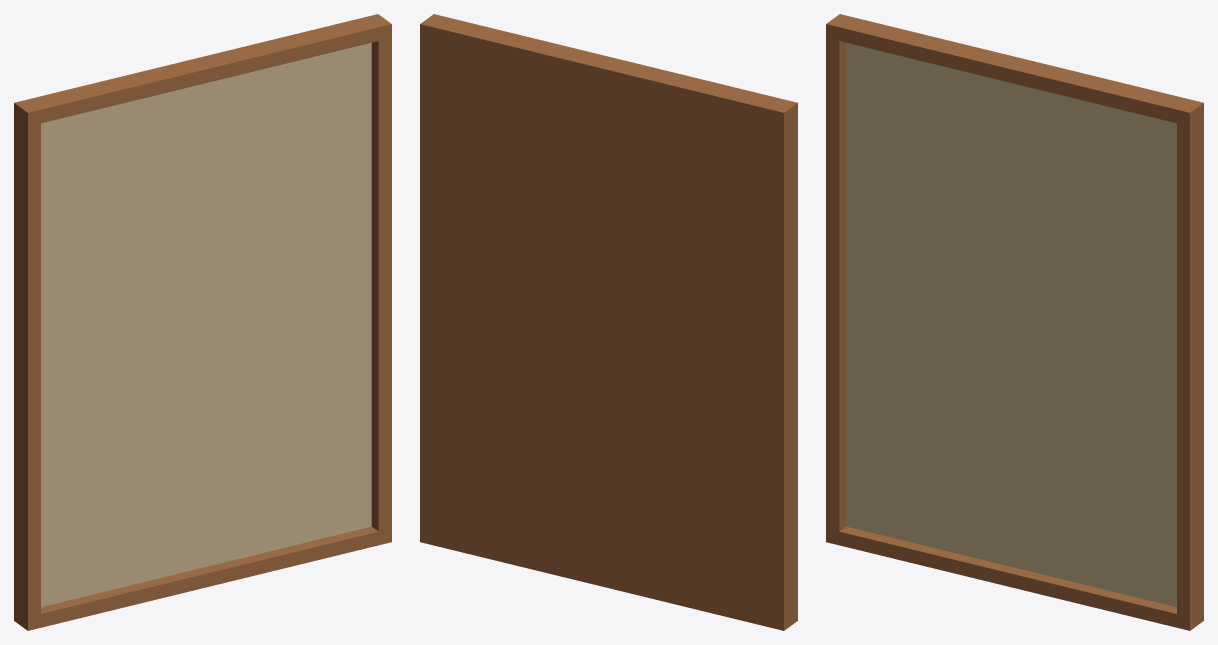
Rendered from board.fbx.
The picture shows the model from 3 angles, left to right: view 1: azimuth 30°, elevation 25°; view 2: azimuth 150°, elevation 25°; view 3: azimuth 330°, elevation 25°; orthographic projection.
Visible parts, largest first — view 1: Cube; view 2: Cube; view 3: Cube.
Boxes of the visible parts, x1,y1,x2,y2 form: Cube: (14, 14, 391, 630); Cube: (420, 14, 797, 630); Cube: (826, 14, 1203, 630).
Size of the model in its own units: 319 by 434 by 20.95.
